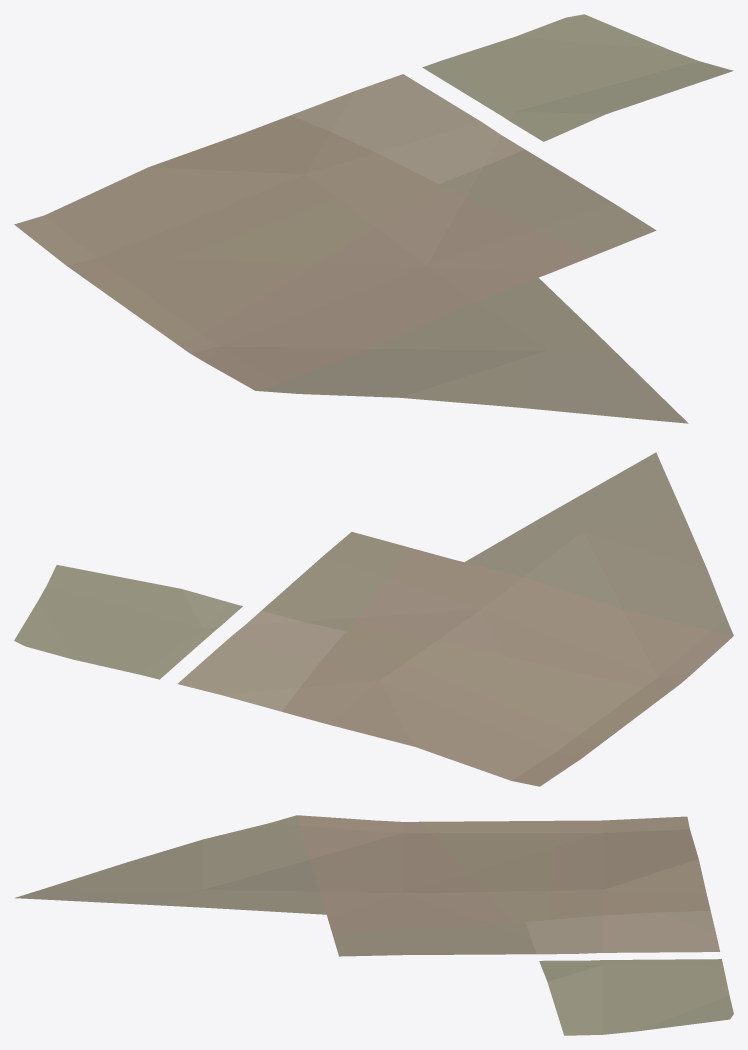
The model's file is farm_18_11_soil.glb.
The picture shows the model from 3 angles, top to bottom: view 1: azimuth 30°, elevation 25°; view 2: azimuth 150°, elevation 25°; view 3: azimuth 270°, elevation 25°; orthographic projection. The views are drawn at different scales.
Parts seen in each view (by area): view 1: geometry_0; view 2: geometry_0; view 3: geometry_0.
Part boxes in pixels (left/top/right/bottom): geometry_0: left=14, top=14, right=733, bottom=423; geometry_0: left=14, top=452, right=733, bottom=786; geometry_0: left=14, top=815, right=733, bottom=1035.
Size of the model in its own units: 247 by 20.12 by 288.
